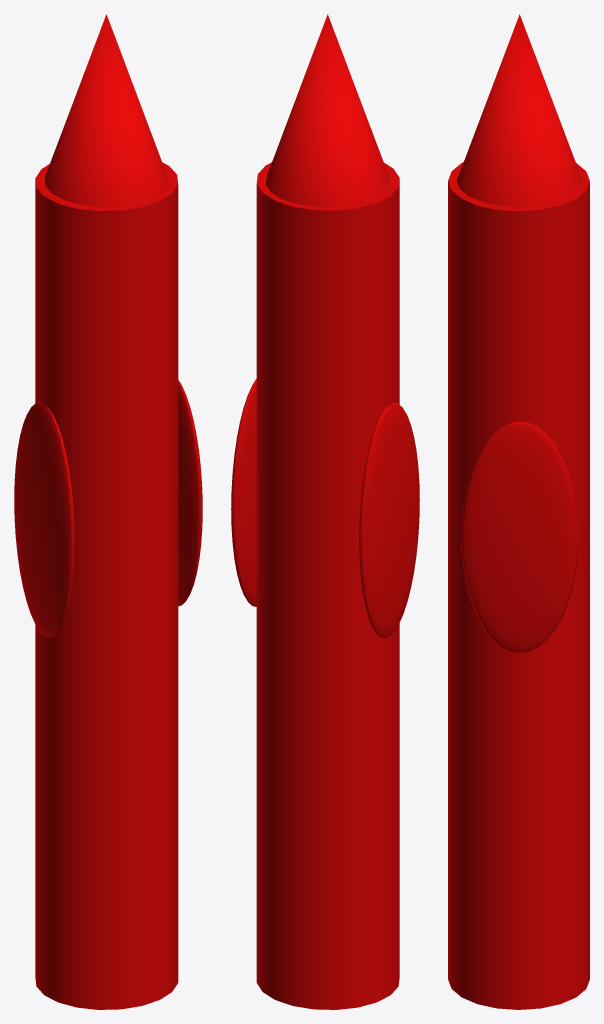
File: redcrayon.fbx
3 views of the same model, side by side, from view 1: azimuth 30°, elevation 25°; view 2: azimuth 150°, elevation 25°; view 3: azimuth 270°, elevation 25° (orthographic).
Parts seen in each view (by area): view 1: pasted__pSphere1; view 2: pasted__pSphere1; view 3: pasted__pSphere1.
Boxes of the visible parts, box(x1,y1,x2,y2) form: pasted__pSphere1: box(14, 14, 202, 1009); pasted__pSphere1: box(231, 14, 419, 1009); pasted__pSphere1: box(448, 14, 589, 1009).
Bounding box in the file's own units: 0.1 × 0.6431 × 0.0856.
